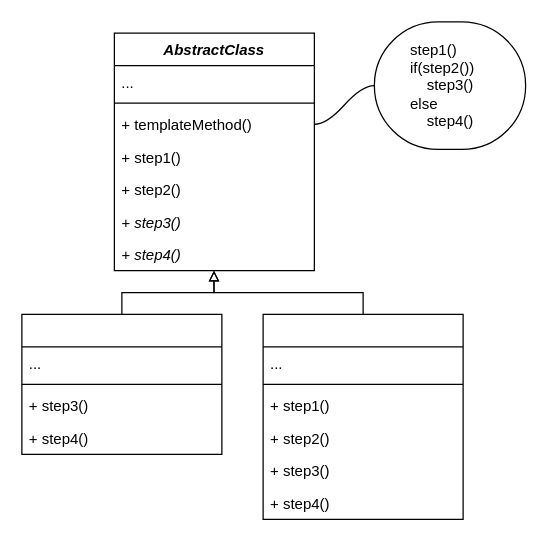
Some shapes in this 548 by 545 pixel diagram are drawn without their labels. Here are the shapes that lost their labels. From the top down, the box of each, then its label:
(21, 313, 222, 454): ConcreteClass1
(262, 313, 463, 519): ConcreteClass2
